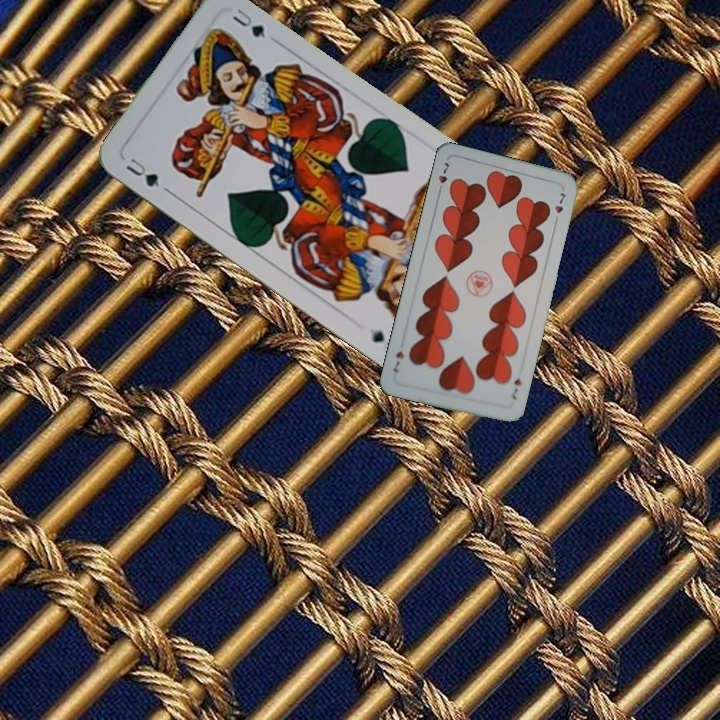GU: (121, 154, 164, 190)
H7: (434, 158, 452, 197), (507, 375, 525, 402)
